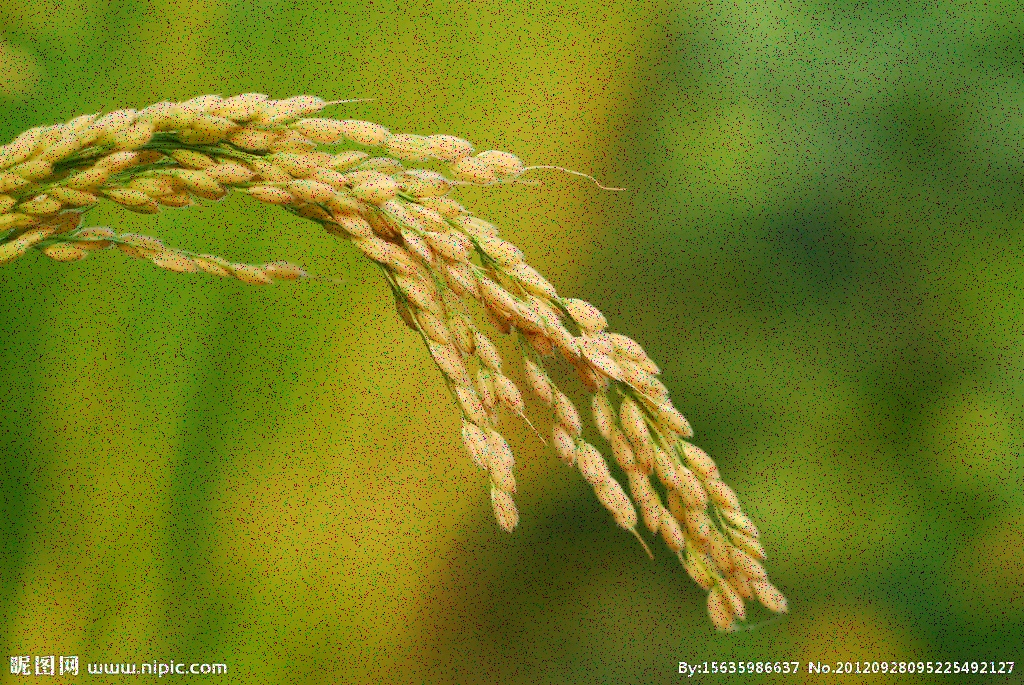rice: (1, 58, 804, 631)
